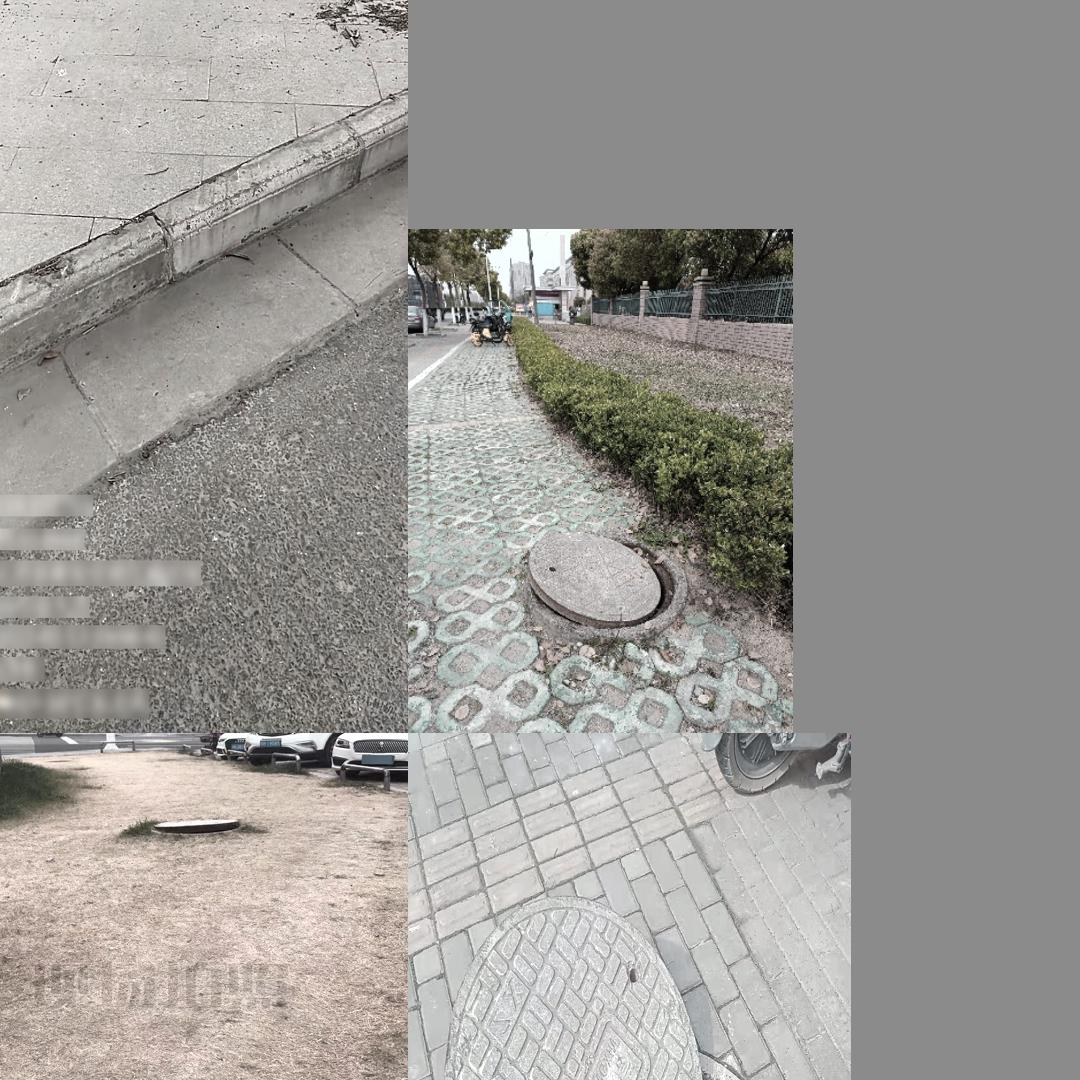uncovered: (441, 902, 830, 1080), (527, 530, 687, 636), (147, 811, 248, 839)
